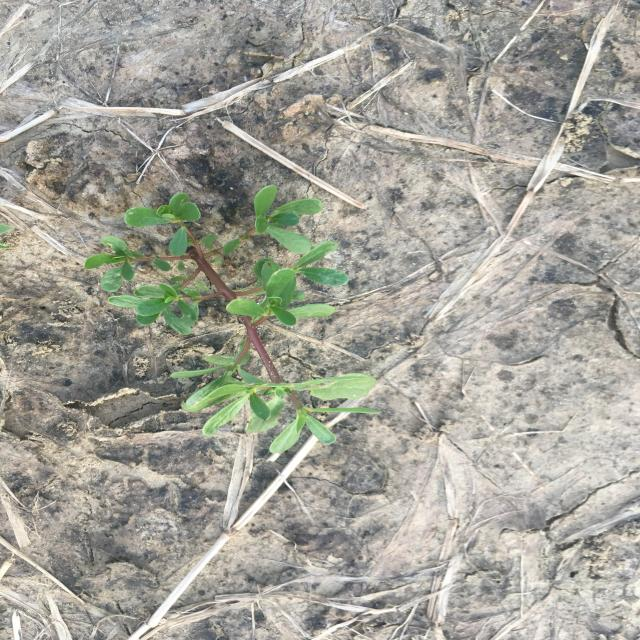Purslane: (82, 184, 384, 456)
